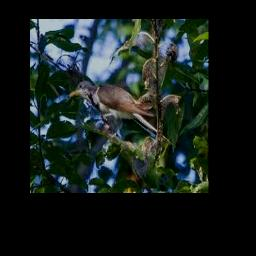Cuckoo: (70, 81, 174, 147)
